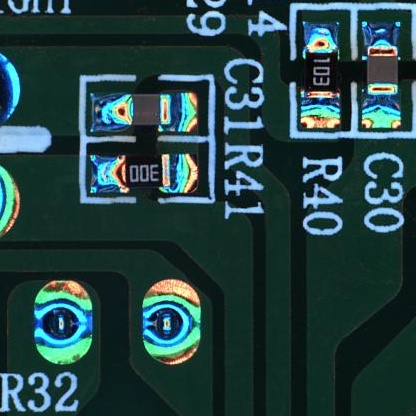spot: (139, 278, 201, 367), (34, 278, 94, 364)
